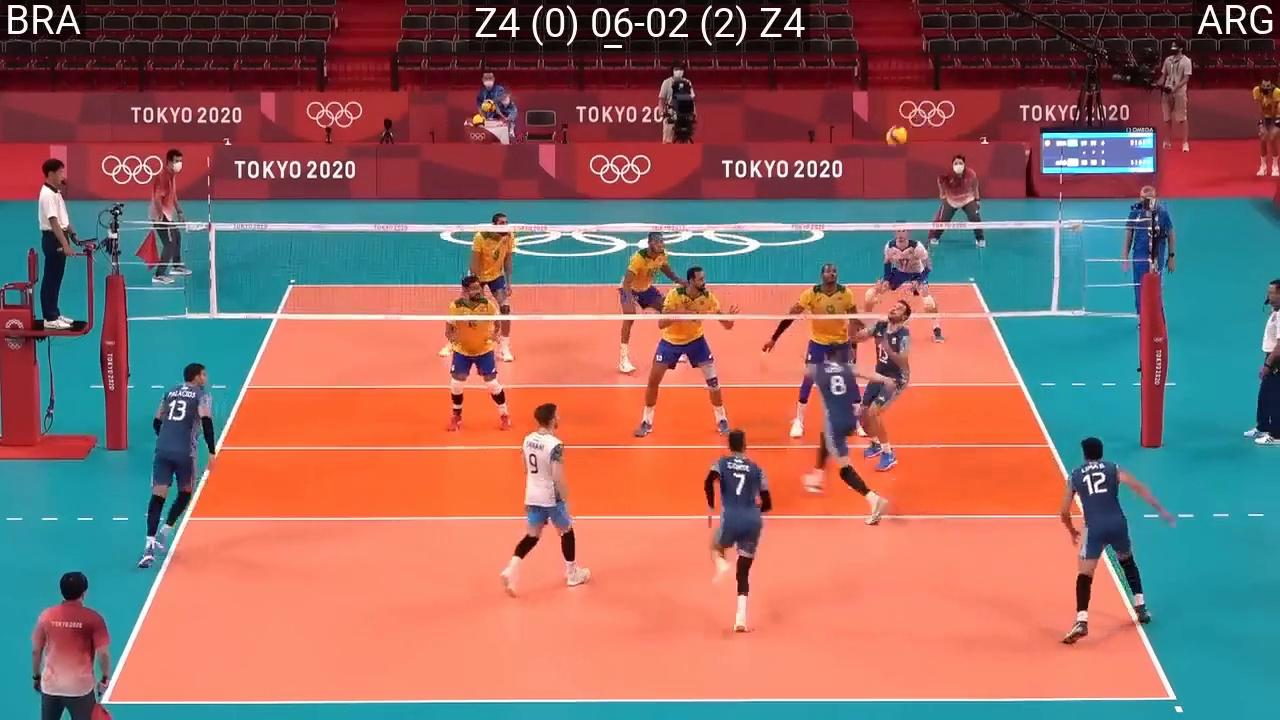ball: (886, 124, 909, 146)
